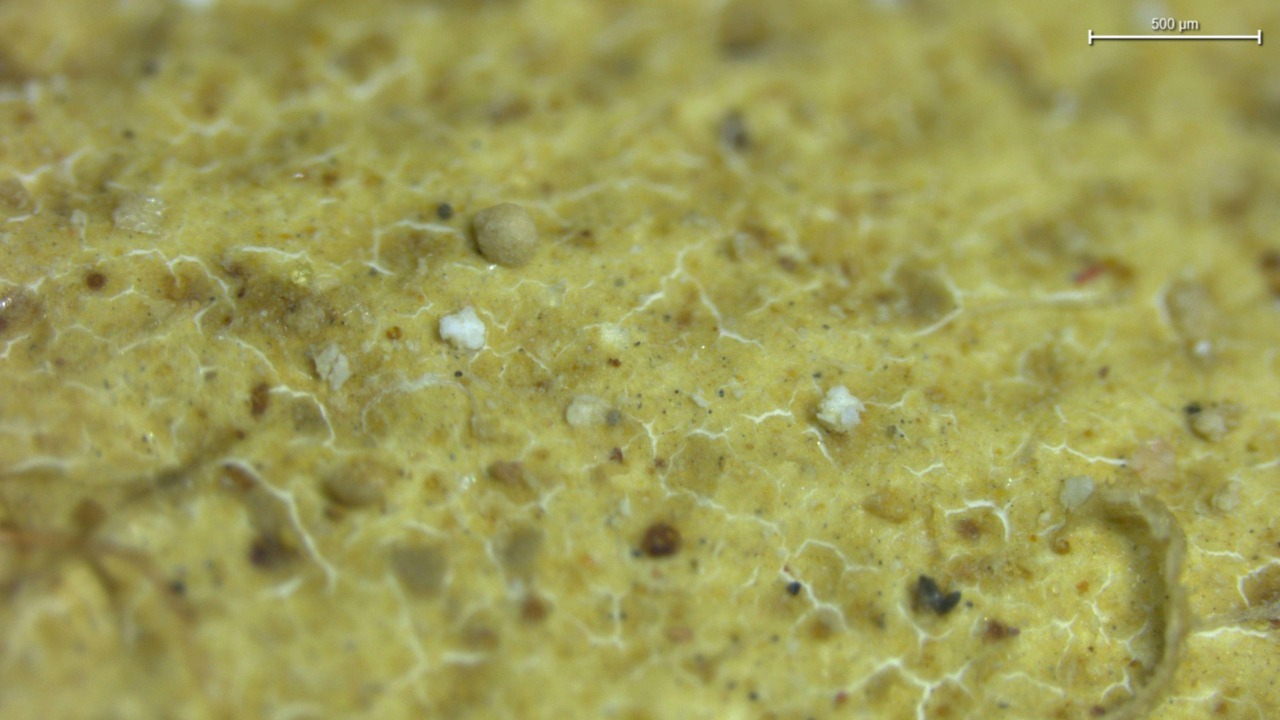microplastic_fragment: (473, 203, 537, 266), (816, 386, 864, 433), (439, 306, 485, 349)
